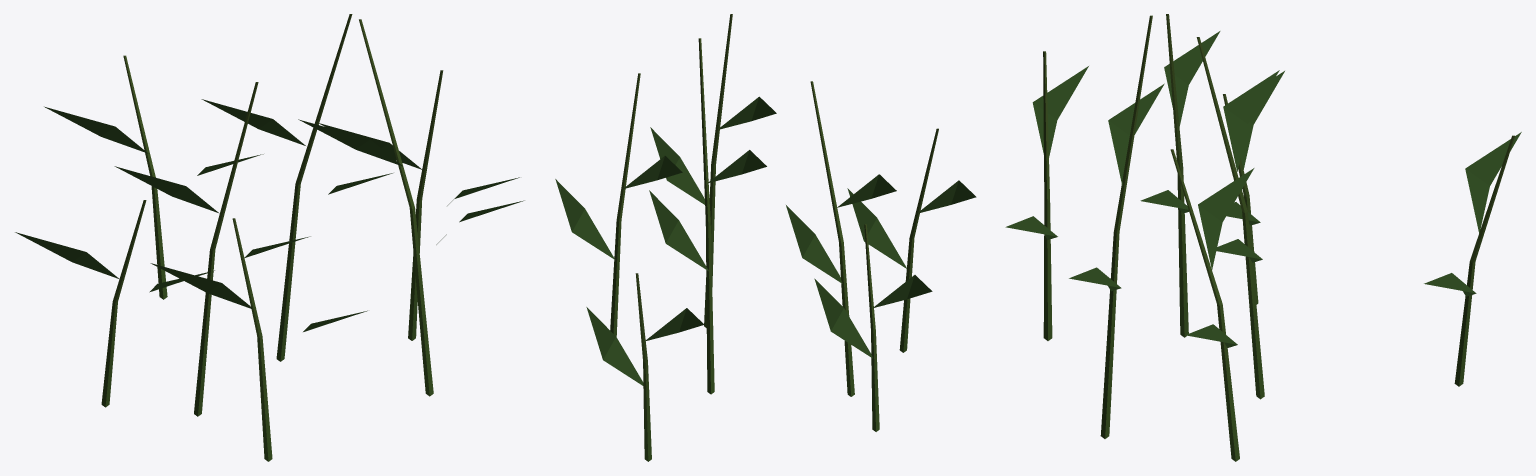
File: shore-reeds-lod1.glb
The picture shows the model from 3 angles, left to right: view 1: azimuth 30°, elevation 25°; view 2: azimuth 150°, elevation 25°; view 3: azimuth 270°, elevation 25°; orthographic projection. The views are drawn at different scales.
Bounding box in the file's own units: 0.1603 × 0.1232 × 0.1457.
1 material, 1 textured.
